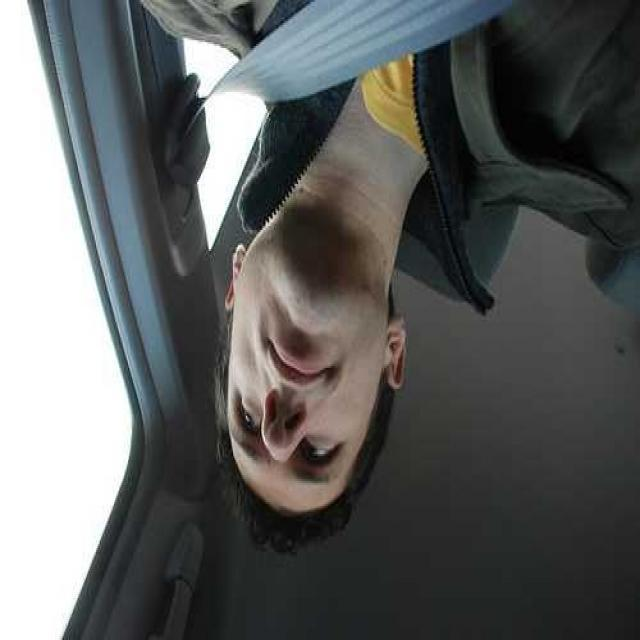seatbelt: (176, 15, 508, 111)
